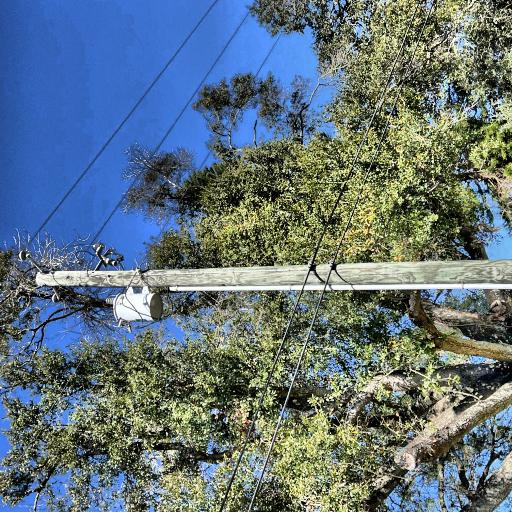insulator: (124, 134, 134, 146), (85, 170, 95, 182)
pole: (99, 152, 129, 512)
transformer: (68, 238, 95, 296)
